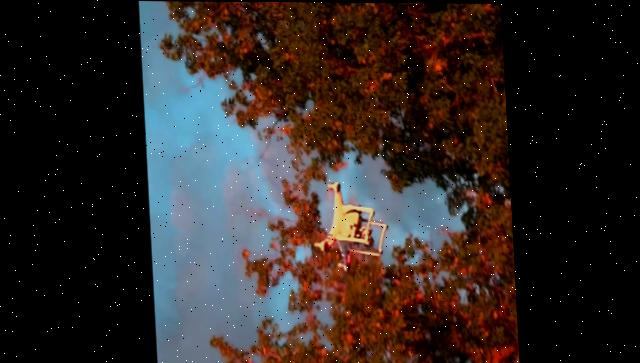drone: (308, 176, 387, 271)
